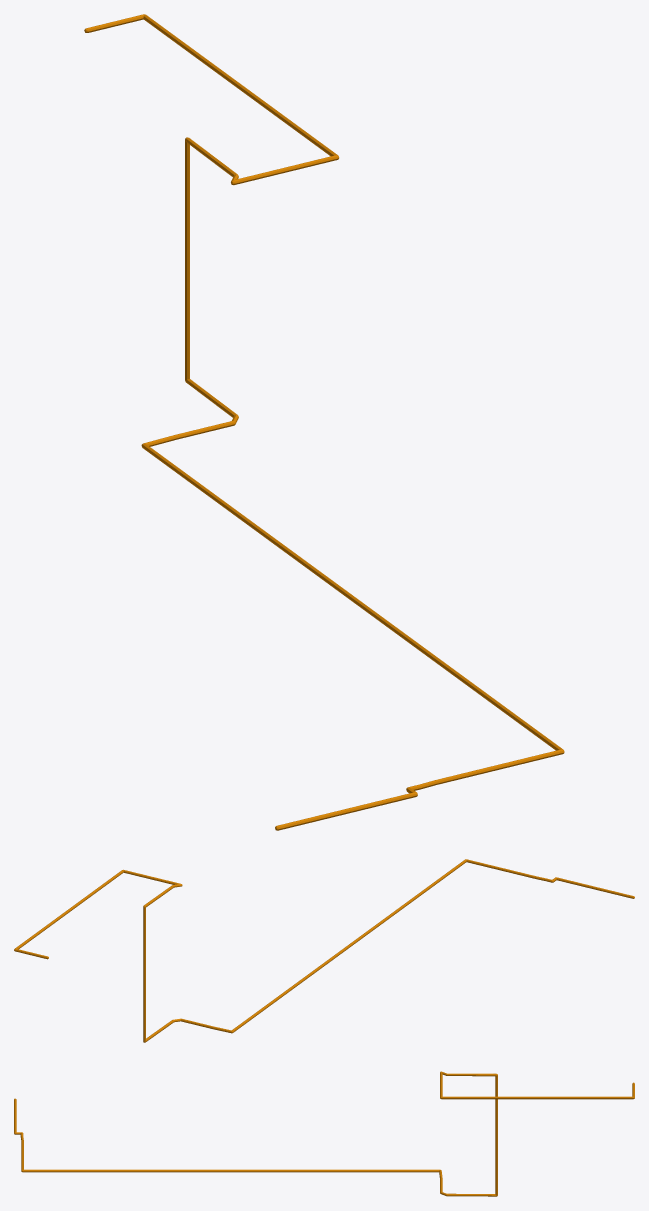
The picture shows the model from 3 angles, top to bottom: view 1: azimuth 30°, elevation 25°; view 2: azimuth 150°, elevation 25°; view 3: azimuth 270°, elevation 25°; orthographic projection. The views are drawn at different scales.
Bounding box in the file's own units: 2131 × 1020 × 4681.
